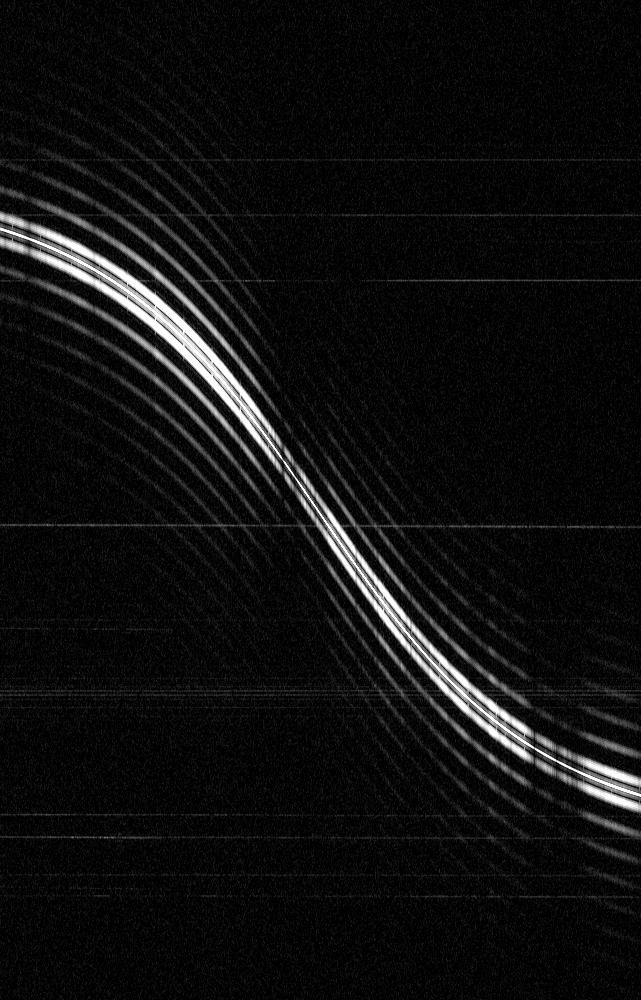signal: (0, 0, 640, 999)
